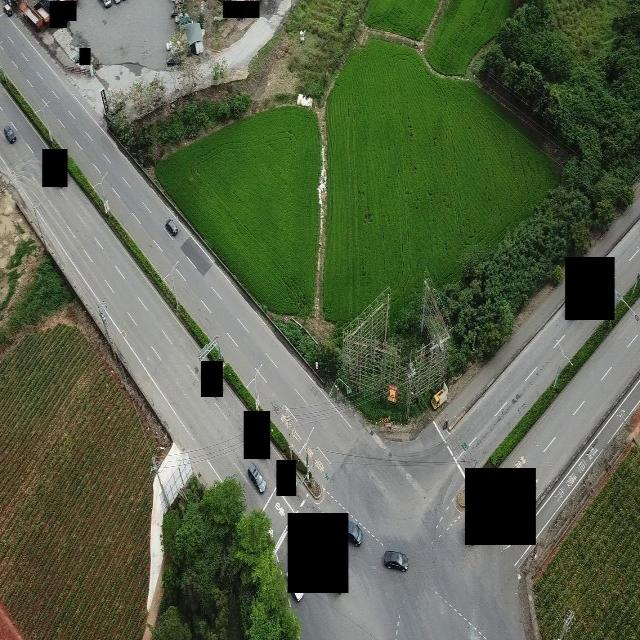bike: (442, 419, 448, 430)
car: (338, 516, 362, 547), (247, 459, 266, 494), (383, 548, 408, 572), (164, 216, 179, 236), (3, 121, 16, 143)
